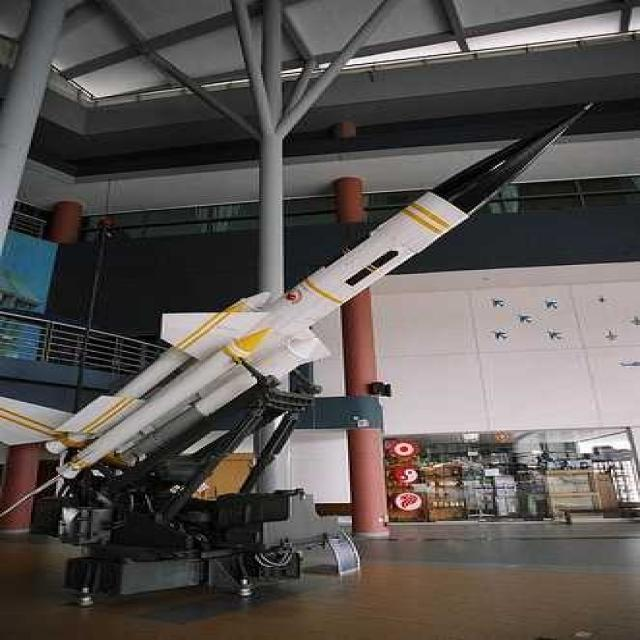missile: (44, 92, 618, 494)
